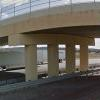Bridge: (3, 0, 97, 57)
